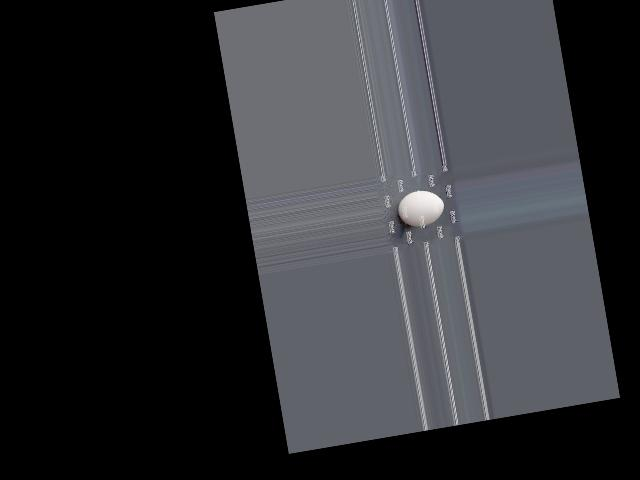egg: (395, 187, 446, 230)
